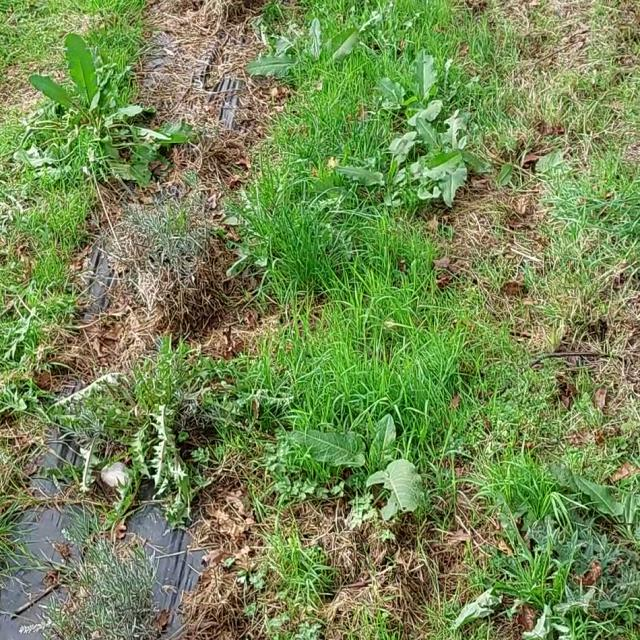organic waste: (21, 40, 186, 199), (269, 401, 454, 542), (366, 120, 504, 218), (338, 47, 463, 124), (253, 7, 369, 87)
